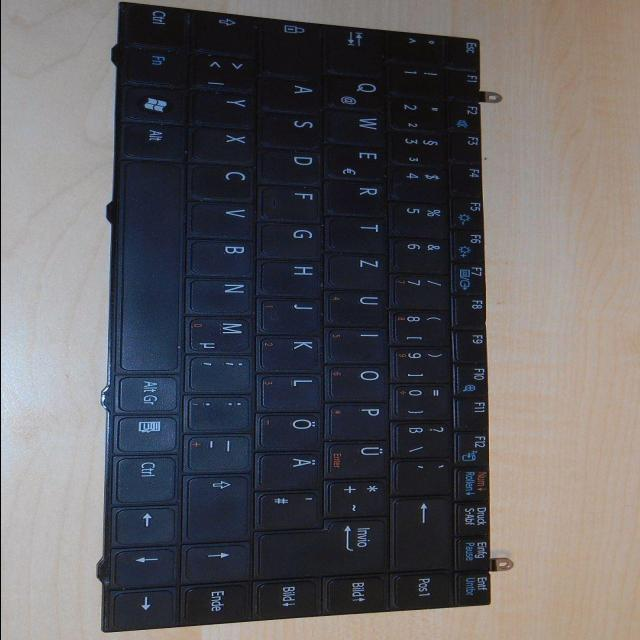0: (394, 383, 456, 418)
1: (390, 62, 446, 96)
2: (390, 97, 446, 129)
3: (392, 132, 448, 165)
4: (391, 167, 449, 200)
5: (392, 201, 451, 235)
6: (393, 238, 453, 272)
7: (393, 274, 452, 308)
8: (392, 310, 452, 344)
9: (394, 347, 455, 381)
a: (260, 77, 324, 111)
accent: (396, 459, 456, 493)
ae: (259, 451, 325, 489)
alt-left: (124, 122, 188, 158)
altgr-right: (121, 374, 185, 411)
b: (191, 238, 259, 275)
c: (191, 163, 258, 199)
caret: (391, 31, 445, 61)
comma: (189, 354, 257, 390)
d: (261, 148, 325, 183)
del: (395, 497, 457, 569)
e: (327, 144, 389, 178)
enter: (259, 516, 394, 577)
f: (261, 186, 325, 220)
g: (261, 222, 326, 256)
h: (260, 259, 324, 295)
hash: (260, 491, 326, 528)
i: (328, 327, 390, 361)
j: (262, 298, 326, 332)
k: (261, 335, 326, 371)
keyboard: (100, 3, 500, 632)
l: (261, 373, 327, 409)
less: (191, 54, 258, 89)
m: (188, 315, 258, 351)
minus: (189, 433, 256, 471)
n: (190, 277, 256, 313)
o: (329, 363, 393, 399)
oe: (261, 412, 326, 448)
p: (330, 402, 394, 439)
plus: (329, 479, 393, 515)
point: (189, 394, 255, 430)
q: (326, 73, 387, 108)
r: (326, 180, 387, 215)
s: (260, 113, 324, 147)
shift-left: (194, 9, 255, 52)
shift-lock: (262, 17, 326, 76)
shift-right: (187, 473, 257, 540)
space: (122, 159, 188, 371)
ss: (395, 420, 456, 456)
strg-left: (124, 4, 189, 46)
t: (329, 217, 390, 252)
tab: (326, 24, 387, 73)
u: (326, 289, 390, 325)
ue: (328, 440, 393, 477)
v: (192, 201, 258, 237)
w: (326, 109, 390, 143)
x: (192, 126, 258, 162)
y: (192, 91, 258, 126)
z: (327, 253, 389, 288)
